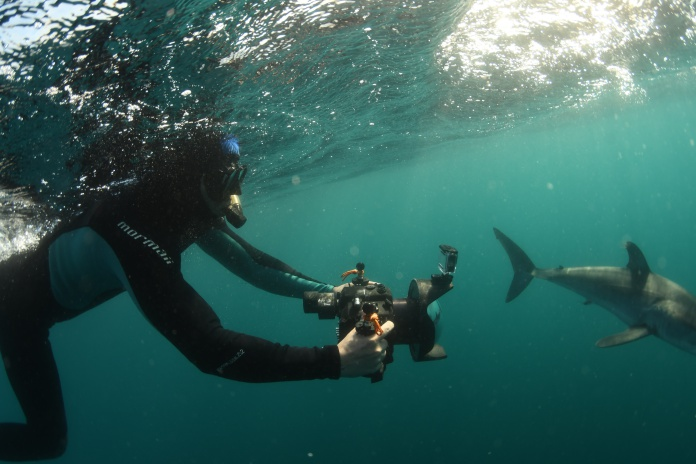Mako: (470, 212, 696, 355)
